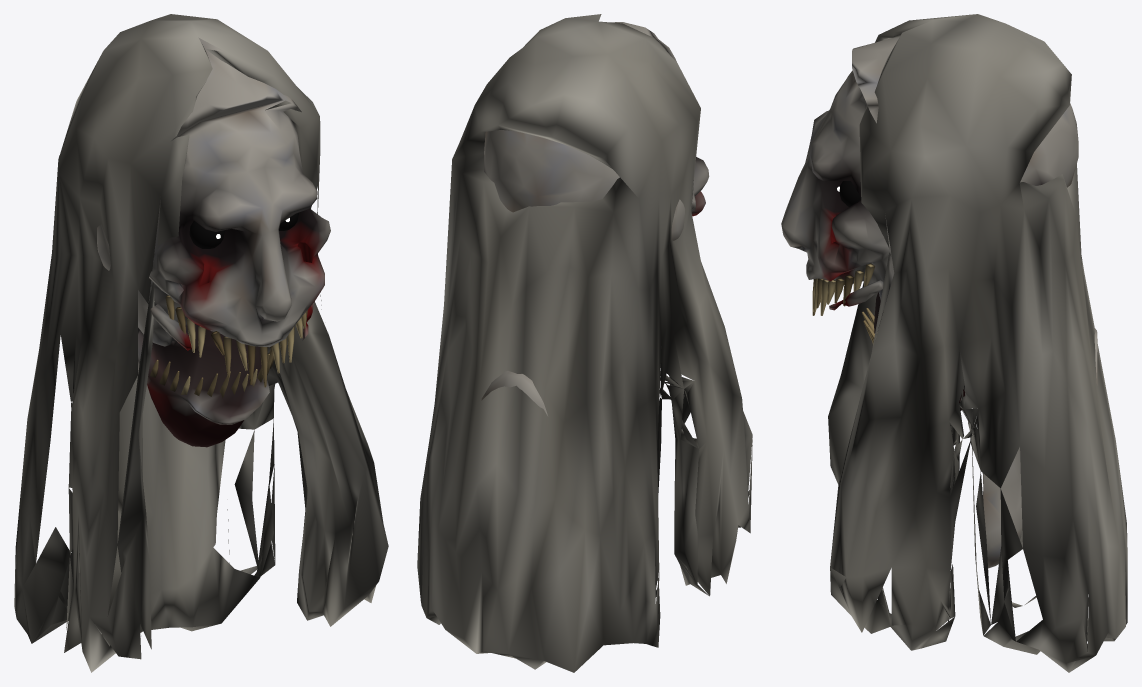
File: widow_head_x.glb
3 views of the same model, side by side, from view 1: azimuth 30°, elevation 25°; view 2: azimuth 150°, elevation 25°; view 3: azimuth 270°, elevation 25° (orthographic). The views are drawn at different scales.
Parts seen in each view (by area): view 1: widow_head_x; view 2: widow_head_x; view 3: widow_head_x.
Boxes of the visible parts, <box> form: widow_head_x: <box>14,14,388,672</box>; widow_head_x: <box>417,14,752,672</box>; widow_head_x: <box>781,14,1127,672</box>.
Bounding box in the file's own units: 0.2311 × 0.5041 × 0.2567.
